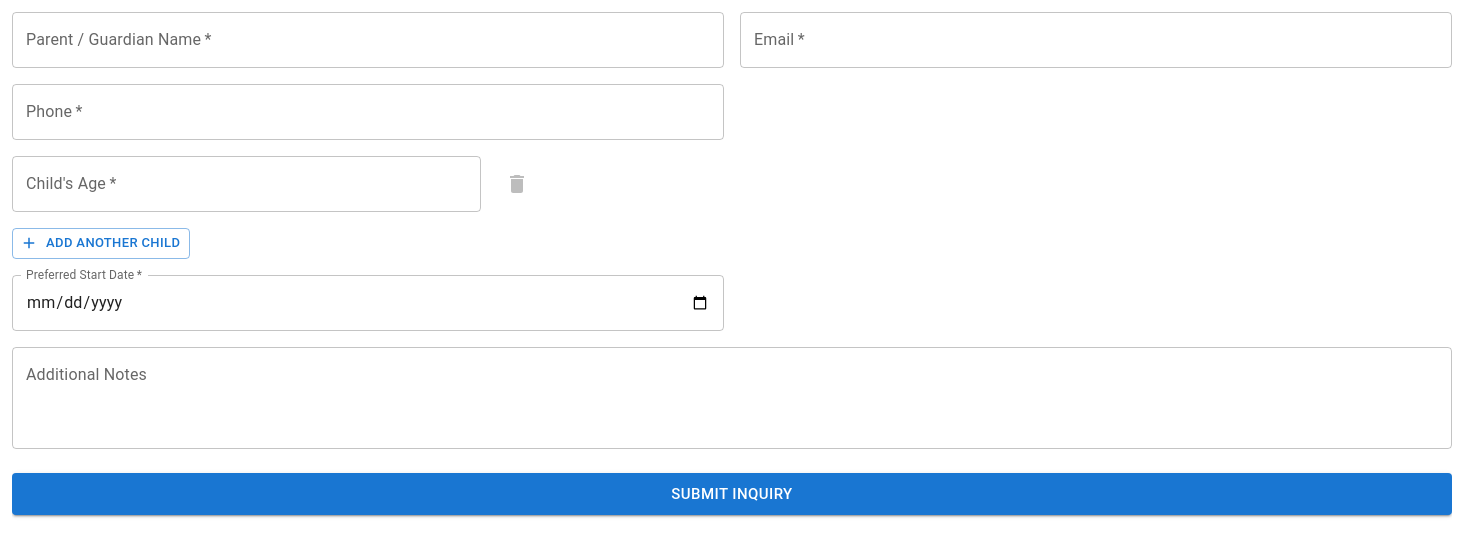
Test: EnrollmentForm › disables the submit button and shows "Submitting…" while the request is pending
In the field labelled "Parent / Guardian Name *": (368, 40) [12, 12, 724, 68], type "Jane Doe"
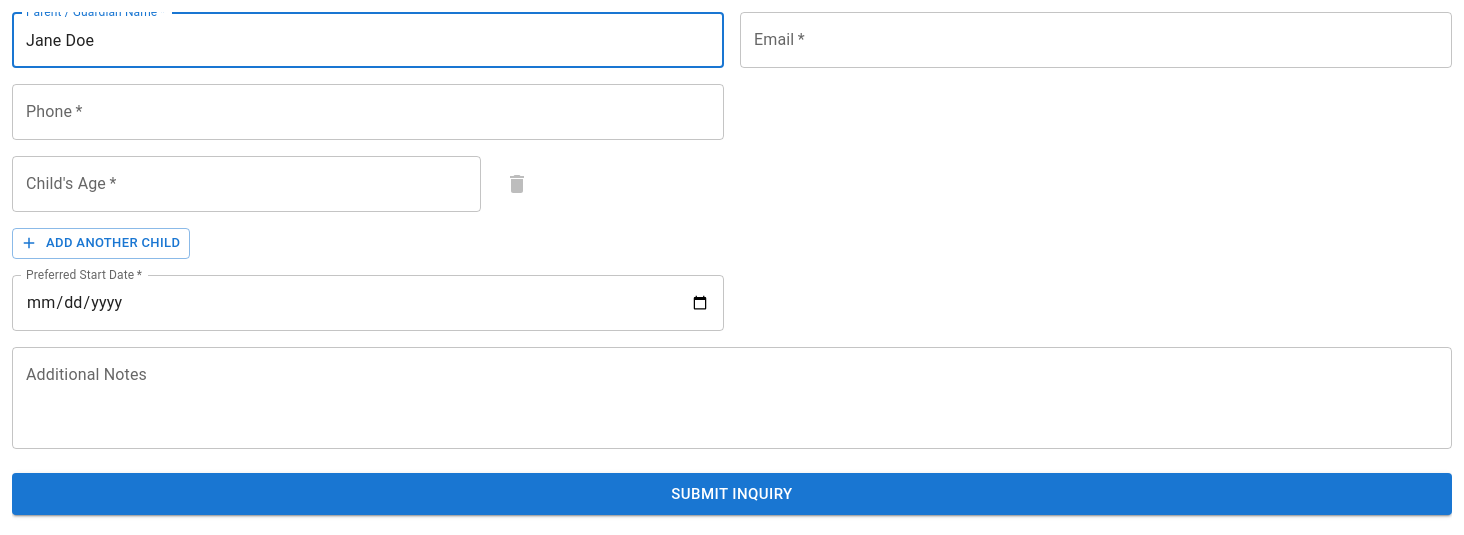
In the field labelled "Email *": (1096, 40) [740, 12, 1452, 68], type "jane@example.com"
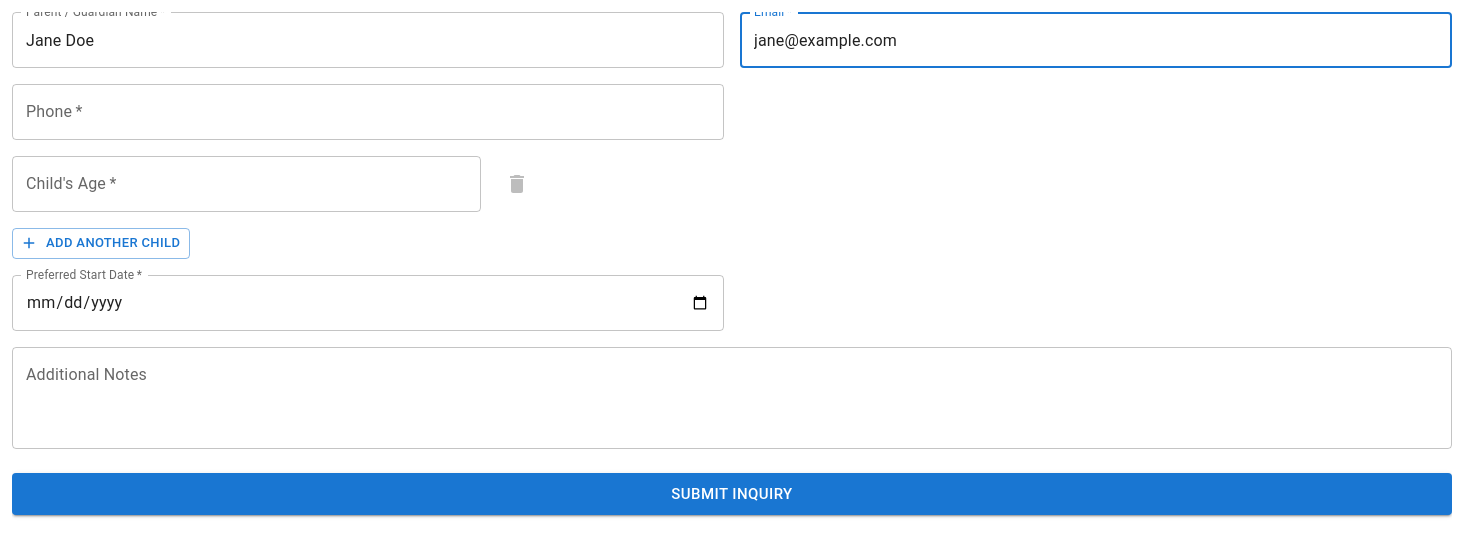
In the field labelled "Phone *": (368, 112) [12, 84, 724, 140], type "555-1234"
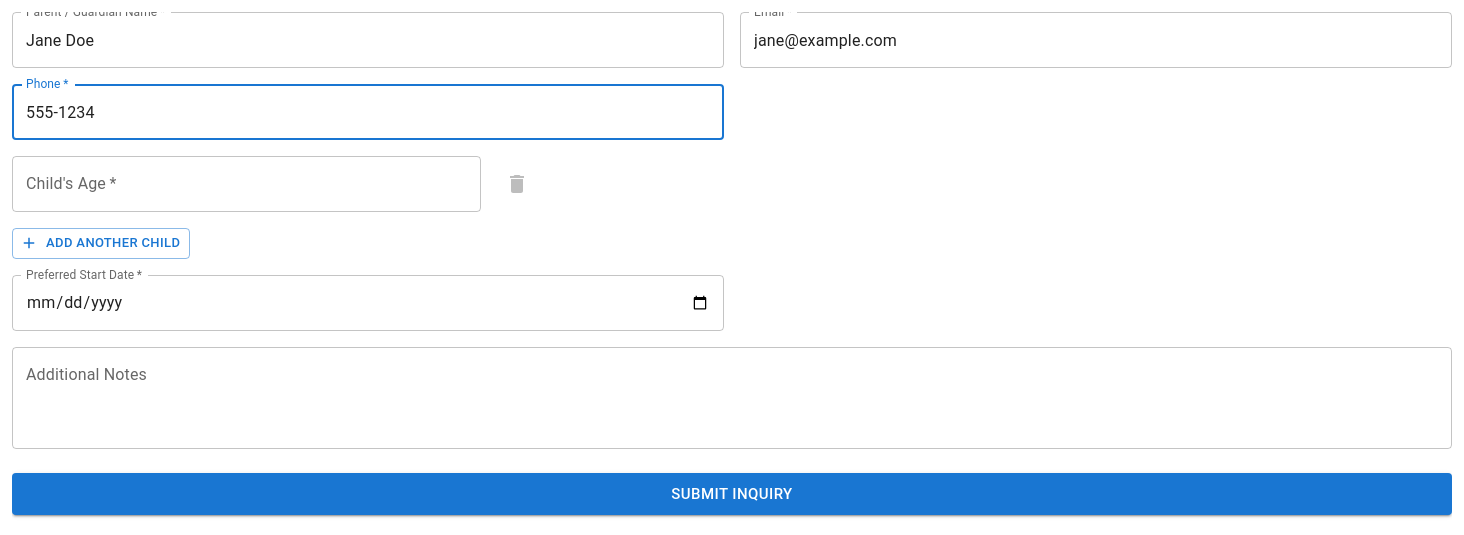
In the field labelled "Child's Age *": (247, 184) [12, 156, 481, 212], type "4"
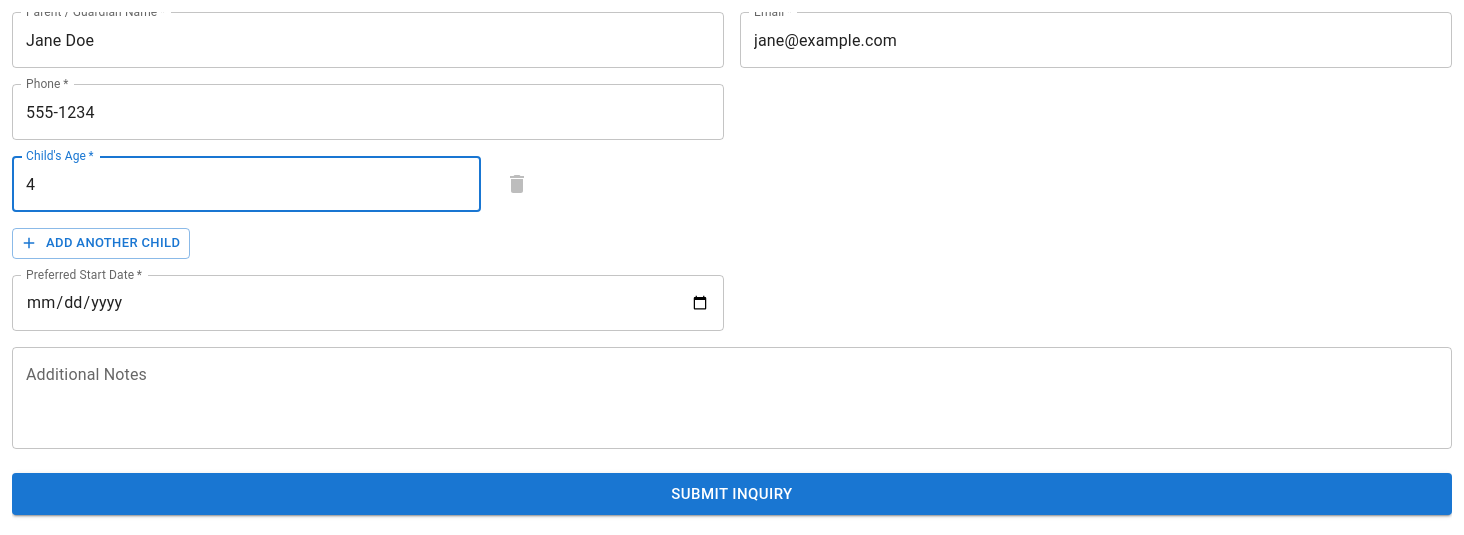
In the date field labelled "Preferred Start Date *": (368, 303) [12, 275, 724, 331], type "2026-10-01"
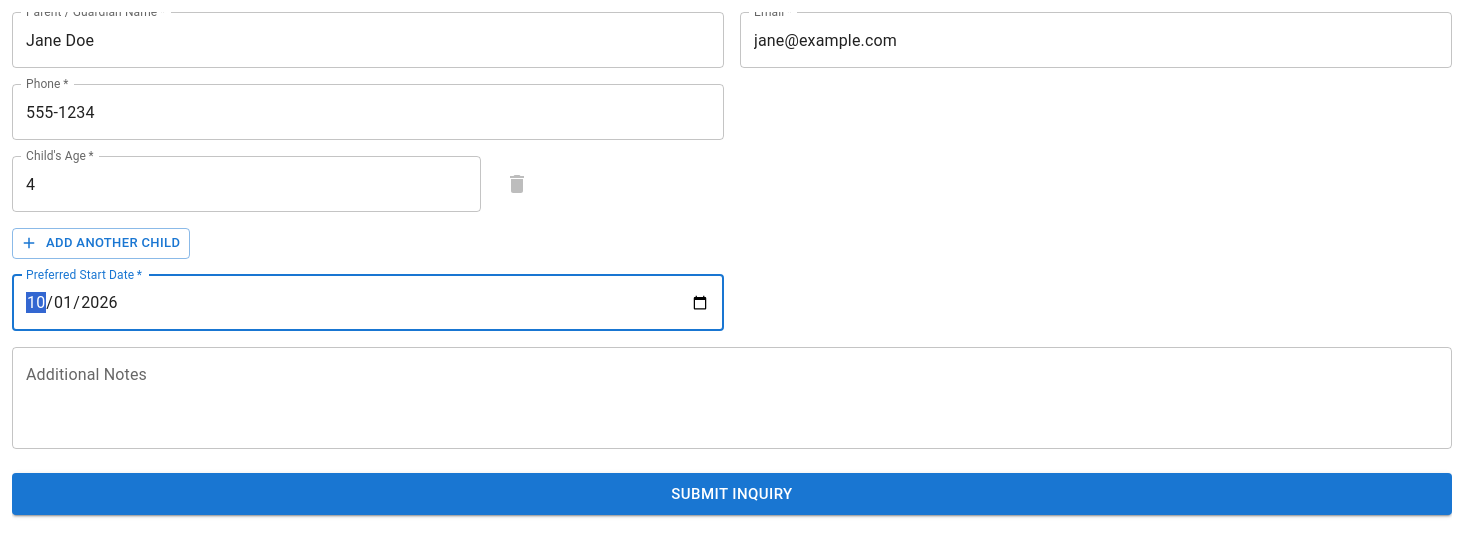
Click the button "Submit Inquiry": (732, 494) [12, 473, 1452, 515]
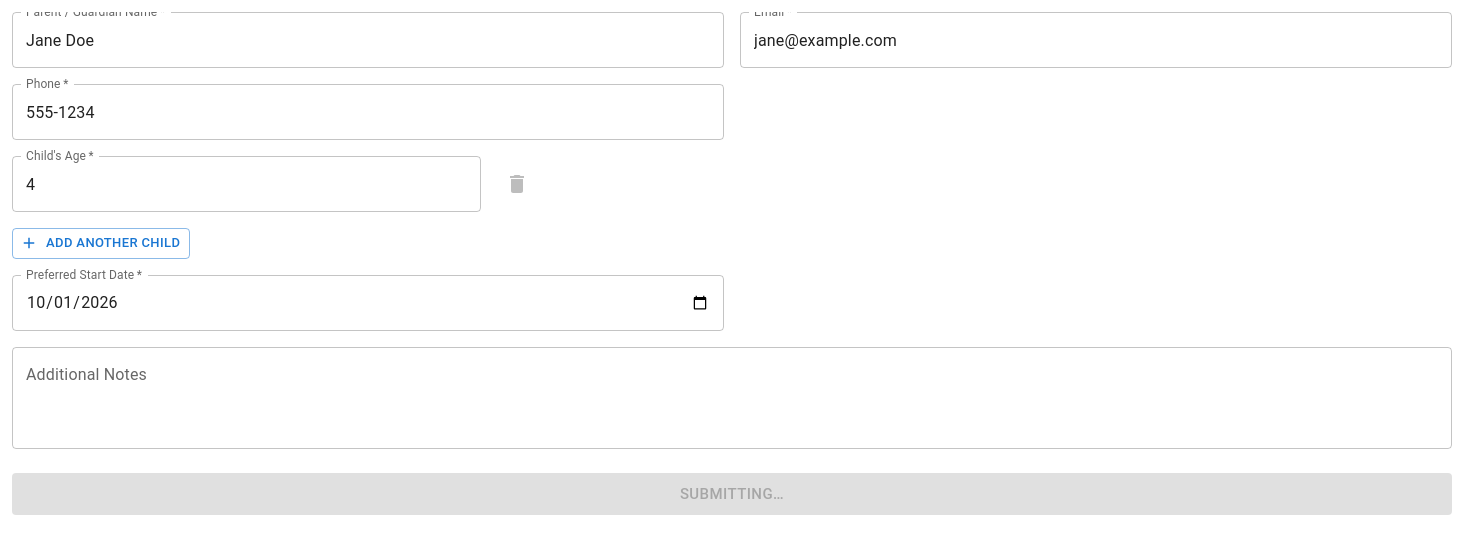
Expected: the button "Submitting…" is disabled, [12, 473, 1452, 515]
